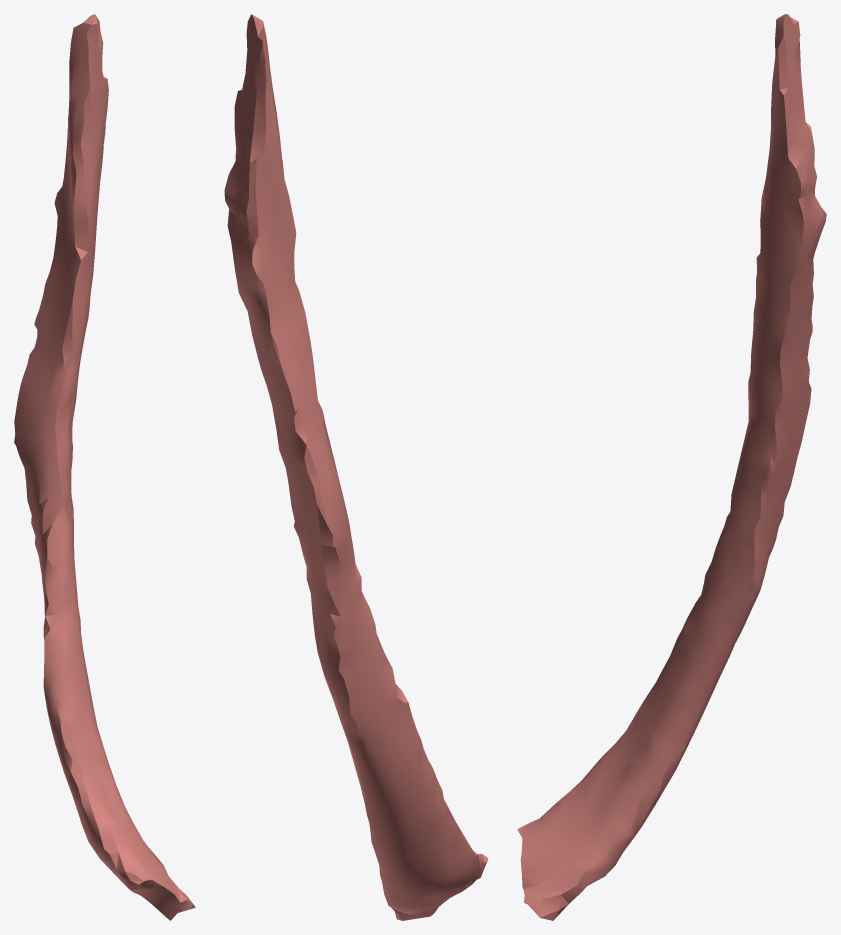
File: fma51116-l_mm1763.glb
3 renders of one model, left to right at view 1: azimuth 30°, elevation 25°; view 2: azimuth 150°, elevation 25°; view 3: azimuth 270°, elevation 25°, orthographic. The views are drawn at different scales.
Parts seen in each view (by area): view 1: FMA51116-L_MM1763; view 2: FMA51116-L_MM1763; view 3: FMA51116-L_MM1763.
Part boxes in pixels (<box>): FMA51116-L_MM1763: <box>14,14,195,920</box>; FMA51116-L_MM1763: <box>224,14,488,920</box>; FMA51116-L_MM1763: <box>517,14,826,920</box>.
Bounding box in the file's own units: 0.0138 × 0.0975 × 0.0299.
